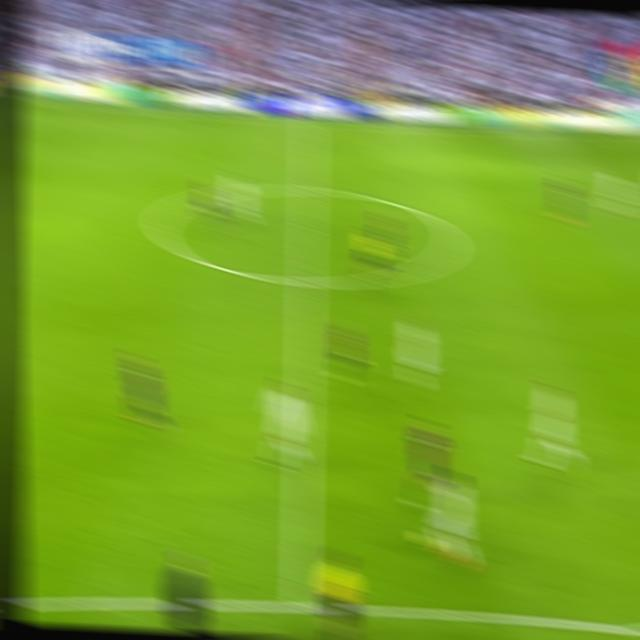halfcircle_bottom: (291, 259, 321, 301)
halfcircle_top: (295, 172, 322, 207)
midline_bottom_intersection: (285, 577, 317, 615)
midline_top_intersection: (298, 113, 320, 134)
